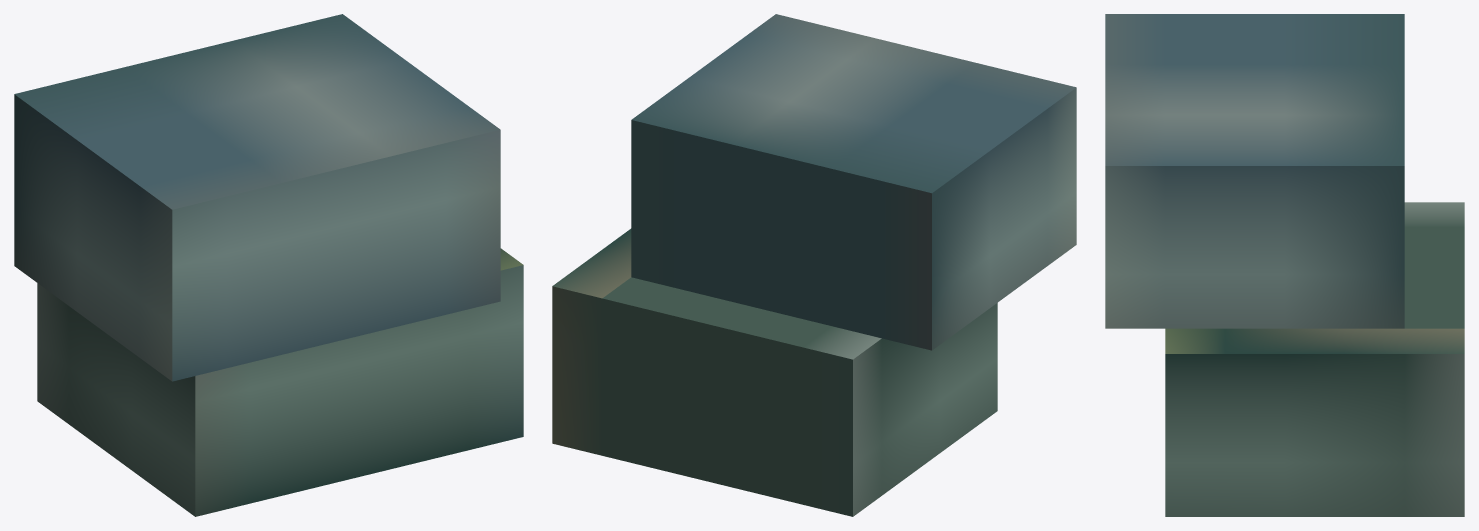
File: BookStack_A_02.fbx
3 views of the same model, side by side, from view 1: azimuth 30°, elevation 25°; view 2: azimuth 150°, elevation 25°; view 3: azimuth 270°, elevation 25° (orthographic). The views are drawn at different scales.
Visible parts, largest first — view 1: BookStack_A_02; view 2: BookStack_A_02; view 3: BookStack_A_02.
Boxes of the visible parts, left/top/right/bottom form: BookStack_A_02: left=14, top=14, right=523, bottom=516; BookStack_A_02: left=552, top=14, right=1076, bottom=516; BookStack_A_02: left=1105, top=14, right=1464, bottom=516.
Size of the model in its own units: 35 by 30 by 30.
1 material, 1 textured.
